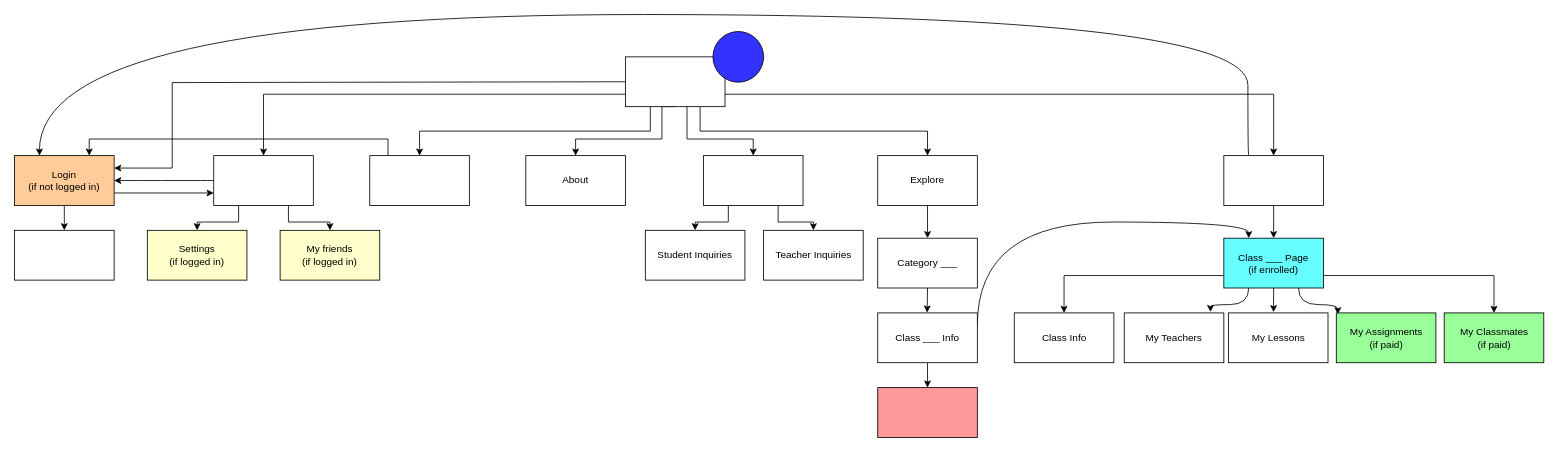
Image size: 1559x452. Some labels were removed from this diagram. The centre of each missing label's shape, as x and y in pixels:
Contact: pixel 753 180
Enroll (if not enrolled): pixel 927 412
Homepage: pixel 675 81
My Classes: pixel 1273 180
My Messages: pixel 419 180
My Profile: pixel 263 180
New Account: pixel 64 254
Search: pixel 738 56
